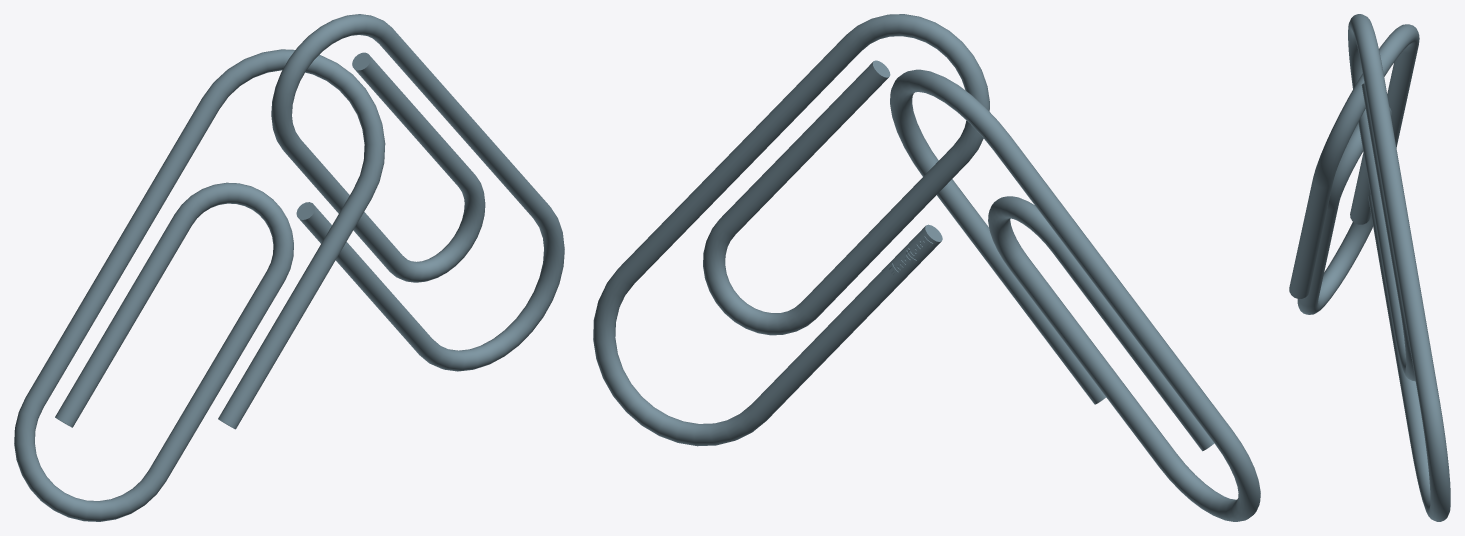
Rendered from linked_paperclips.gltf.
3 views of the same model, side by side, from view 1: azimuth 30°, elevation 25°; view 2: azimuth 150°, elevation 25°; view 3: azimuth 270°, elevation 25° (orthographic). The views are drawn at different scales.
Visible parts, largest first — view 1: Circle.2574, Circle.2573; view 2: Circle.2573, Circle.2574; view 3: Circle.2573, Circle.2574.
Boxes of the visible parts, x1,y1,x2,y2 form: Circle.2574: (14,49,385,521); Circle.2573: (271,14,564,371); Circle.2573: (593,14,989,446); Circle.2574: (890,69,1260,521); Circle.2573: (1348,14,1450,521); Circle.2574: (1289,24,1419,314).
Bounding box in the file's own units: 2.32 × 1.6 × 0.5678.
Materials: 1 (1 with a texture image).
